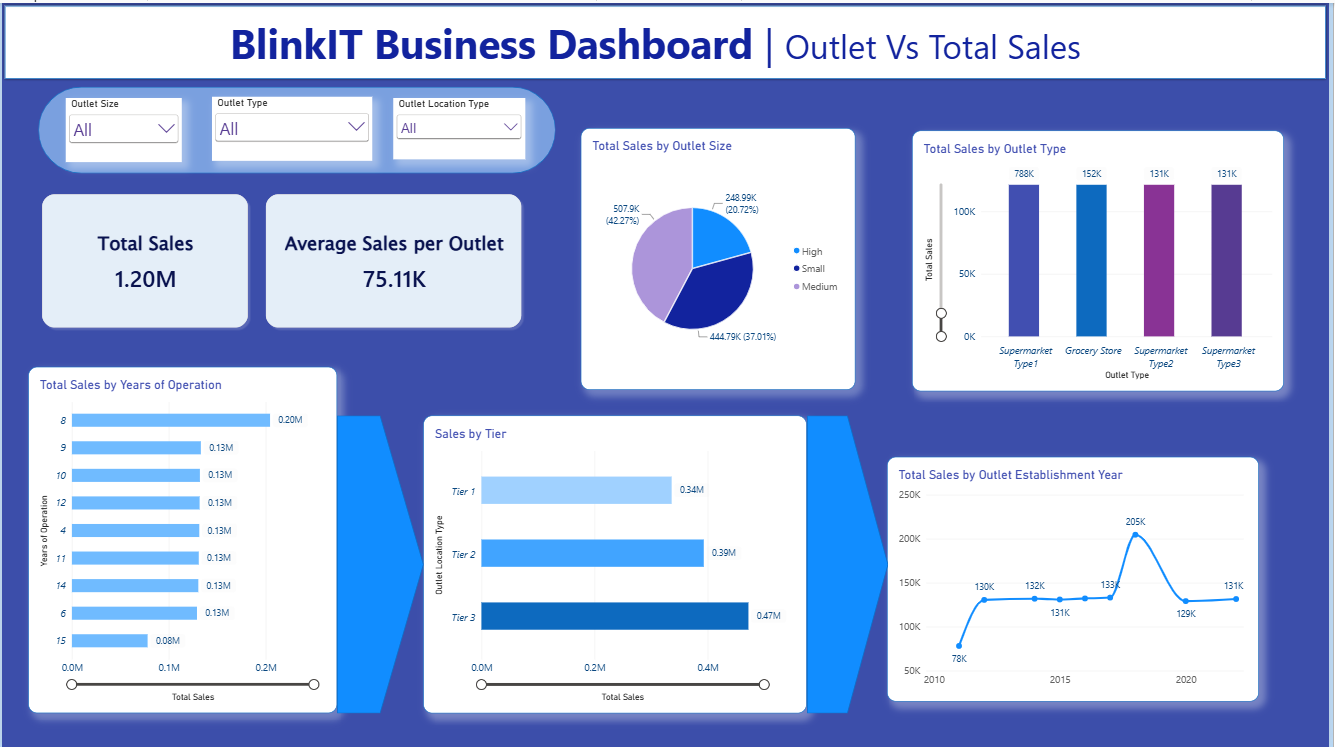

The dashboard page shown, as its layout file describes it:
{"tool":"powerbi","page":{"name":"Outlet Vs Total sales","canvas":[1920,1080],"ordinal":1},"visuals":[{"type":"shape","box":[52.9,121.6,749,125.5],"z":0},{"type":"shape","box":[0,0,1920.5,113.6],"z":1000},{"type":"cardVisual","fields":{"Data":["Measure.Total Sales"]},"box":[52.9,270.6,309.1,204.5],"z":2000},{"type":"cardVisual","fields":{"Data":["Measure.Average Sales per Outlet"]},"box":[376.5,270.6,381.8,204.5],"z":3000},{"type":"clusteredColumnChart","fields":{"Category":["Outlet Info.Outlet Type"],"Y":["Measure.Total Sales"]},"box":[1318.2,184.1,538.6,377.3],"z":4000},{"type":"clusteredBarChart","title":"Sales by Tier","fields":{"Category":["Outlet Location.Outlet Location Type"],"Y":["Measure.Total Sales"]},"box":[609.8,598,554.9,431.4],"z":5000},{"type":"lineChart","fields":{"Category":["Outlet Info.Outlet Establishment Year"],"Y":["Measure.Total Sales"]},"box":[1281.8,656.8,538.6,354.5],"z":6000},{"type":"slicer","fields":{"Values":["Outlet Location.Outlet Location Type"]},"box":[566.7,137.3,190.9,88.6],"z":7000},{"type":"slicer","fields":{"Values":["Outlet Info.Outlet Type"]},"box":[303.9,135.3,231.8,93.2],"z":8000},{"type":"pieChart","fields":{"Category":["Outlet Info.Outlet Size"],"Y":["Measure.Total Sales"]},"box":[838.6,181.8,397.7,379.5],"z":9000},{"type":"clusteredBarChart","fields":{"Category":["Outlet Info.Years of Operation"],"Y":["Measure.Total Sales"]},"box":[37.3,527.5,447.1,502],"z":10000},{"type":"slicer","fields":{"Values":["Outlet Info.Outlet Size"]},"box":[92.2,137.3,168.2,93.2],"z":11000},{"type":"textbox","box":[304.5,18.2,1284.1,95.5],"z":12000},{"type":"shape","box":[484.3,598,125.5,431.4],"z":13000},{"type":"shape","box":[1164.7,598,117.6,431.4],"z":14000}]}

Visuals, with their boxes in screenshot pixels (x1, y1, x2, y2), scaled from the page's 1920x1080 canvas onto the 1335x747 screenshot:
shape: detection(37, 84, 558, 171)
shape: detection(0, 0, 1334, 79)
cardVisual - Measure.Total Sales: detection(37, 187, 252, 329)
cardVisual - Measure.Average Sales per Outlet: detection(262, 187, 527, 329)
clusteredColumnChart - Outlet Info.Outlet Type x Measure.Total Sales: detection(917, 127, 1291, 388)
"Sales by Tier" clusteredBarChart: detection(424, 414, 810, 712)
lineChart - Outlet Info.Outlet Establishment Year x Measure.Total Sales: detection(891, 454, 1266, 699)
slicer - Outlet Location.Outlet Location Type: detection(394, 95, 527, 156)
slicer - Outlet Info.Outlet Type: detection(211, 94, 372, 158)
pieChart - Outlet Info.Outlet Size x Measure.Total Sales: detection(583, 126, 860, 388)
clusteredBarChart - Outlet Info.Years of Operation x Measure.Total Sales: detection(26, 365, 337, 712)
slicer - Outlet Info.Outlet Size: detection(64, 95, 181, 159)
textbox: detection(212, 13, 1105, 79)
shape: detection(337, 414, 424, 712)
shape: detection(810, 414, 892, 712)
